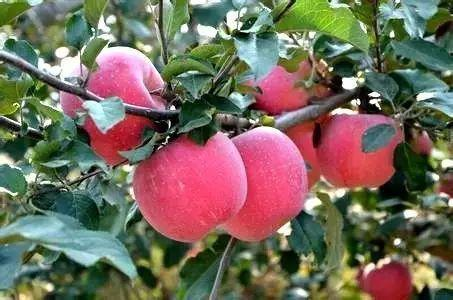apple: (132, 124, 247, 242), (57, 45, 168, 165), (220, 125, 308, 242), (319, 112, 402, 189)
